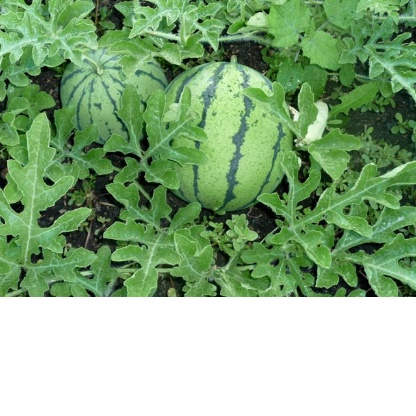duahau: (154, 44, 301, 208), (64, 16, 174, 156)
